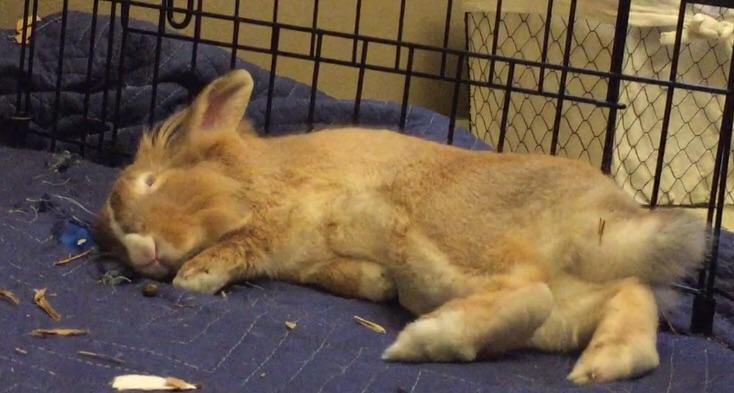bunny: (59, 57, 730, 393)
